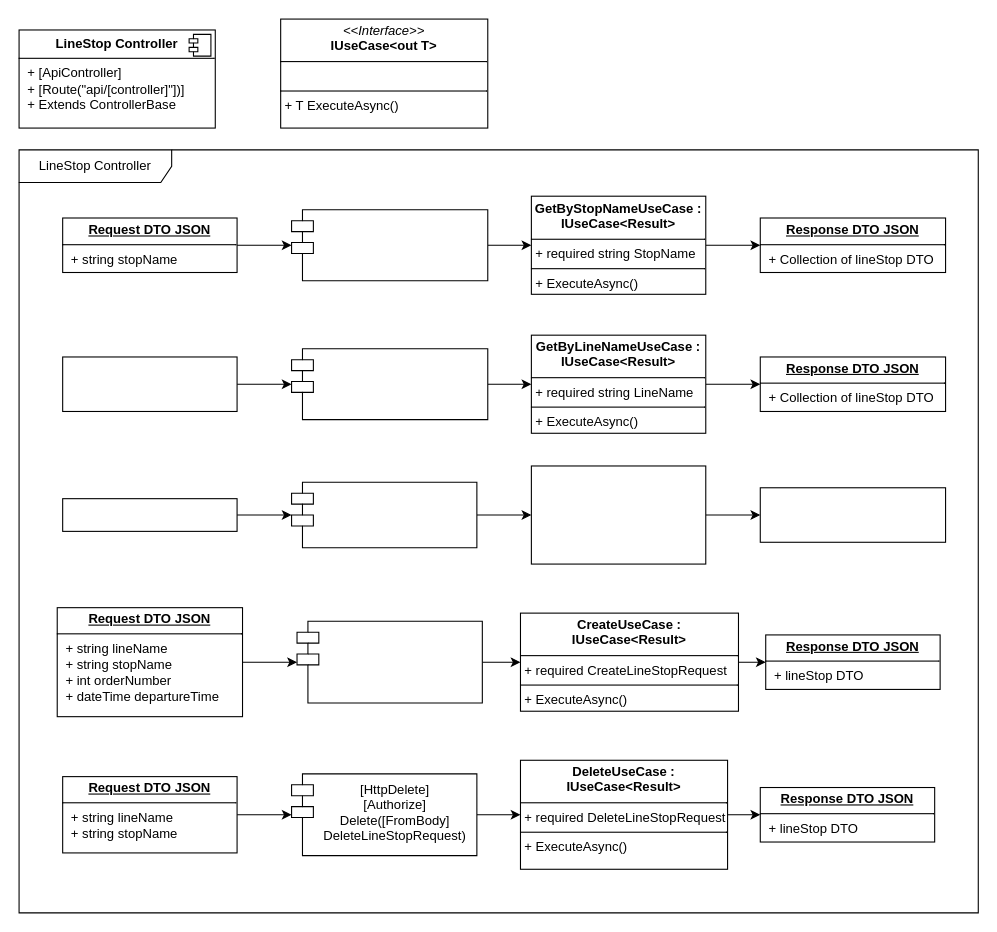
Image size: 997x932. Some labels were removed from this diagram. The box of each missing label's shape, as (x1, y1, x2, y2) in pixels:
[HttpGet("by-name")] GetByStopName([FromBody] string): (290, 209, 488, 281)
[HttpGet("by-street")] GetByLineName([FromBody] string): (290, 348, 488, 420)
[HttpGet] [Authorize] GetAll(): (290, 481, 477, 548)
[HttpPost] [Authorize] Create([FromBody] CreateLineStopRequest): (296, 620, 482, 703)
GetAllUseCase : IUseCase<Result> + ExecuteAsync(): (530, 465, 706, 564)
Request: (62, 498, 237, 531)
Request DTO JSON + string lineName: (62, 356, 237, 411)
Response DTO JSON + Collection of lineStop DTOs: (759, 487, 946, 542)
